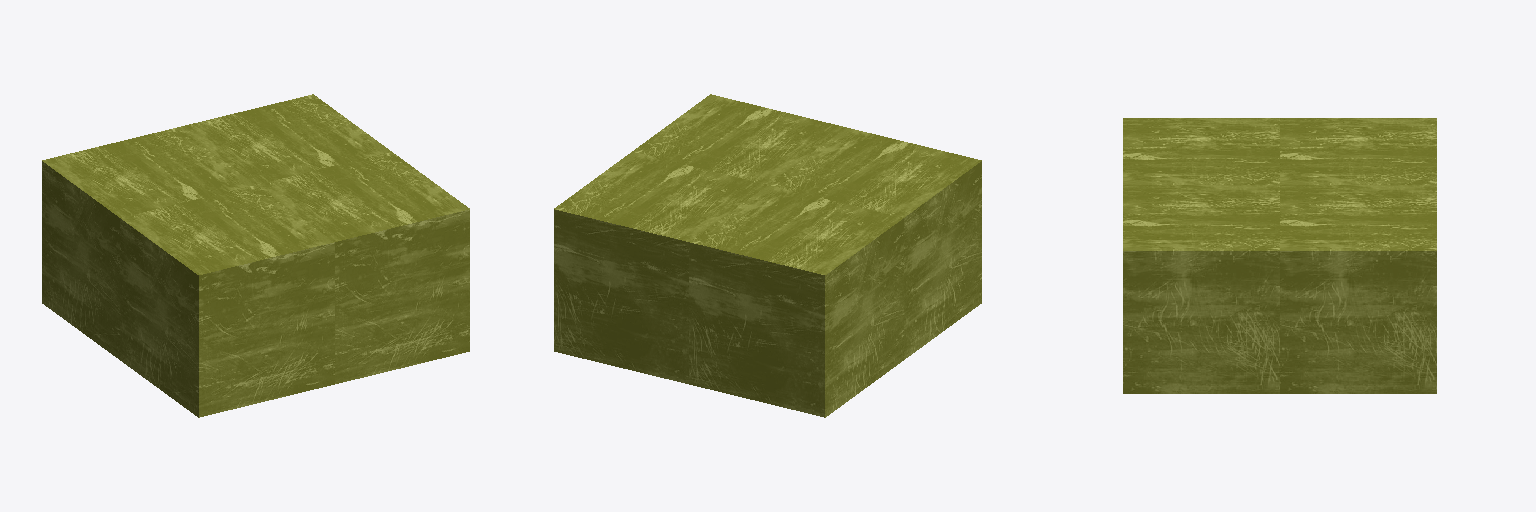
3 views of the same model, side by side, from view 1: azimuth 30°, elevation 25°; view 2: azimuth 150°, elevation 25°; view 3: azimuth 270°, elevation 25° (orthographic).
Parts seen in each view (by area): view 1: Cube.003, Cube.001, Cube.002, Cube.005; view 2: Cube.002, Cube.005, Cube.003, Cube.001; view 3: Cube.005, Cube.001, Cube.002, Cube.003.
Part boxes in pixels (left/top/right/bottom): Cube.003: left=120, top=185, right=334, bottom=417; Cube.001: left=257, top=152, right=469, bottom=383; Cube.002: left=42, top=127, right=255, bottom=359; Cube.005: left=178, top=94, right=391, bottom=184; Cube.002: left=689, top=185, right=903, bottom=417; Cube.005: left=554, top=152, right=766, bottom=383; Cube.003: left=768, top=127, right=981, bottom=359; Cube.001: left=632, top=94, right=845, bottom=184; Cube.005: left=1280, top=185, right=1436, bottom=393; Cube.001: left=1123, top=185, right=1279, bottom=393; Cube.002: left=1280, top=118, right=1436, bottom=184; Cube.003: left=1123, top=118, right=1279, bottom=184.
Bounding box in the file's own units: 4 × 2 × 4.
Materials: 1 (1 with a texture image).